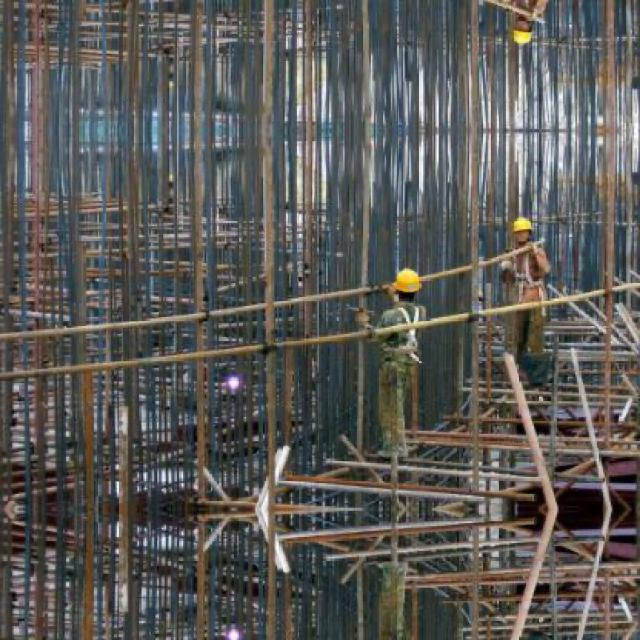helmet: (391, 265, 423, 300), (512, 214, 536, 243), (512, 17, 536, 46)
